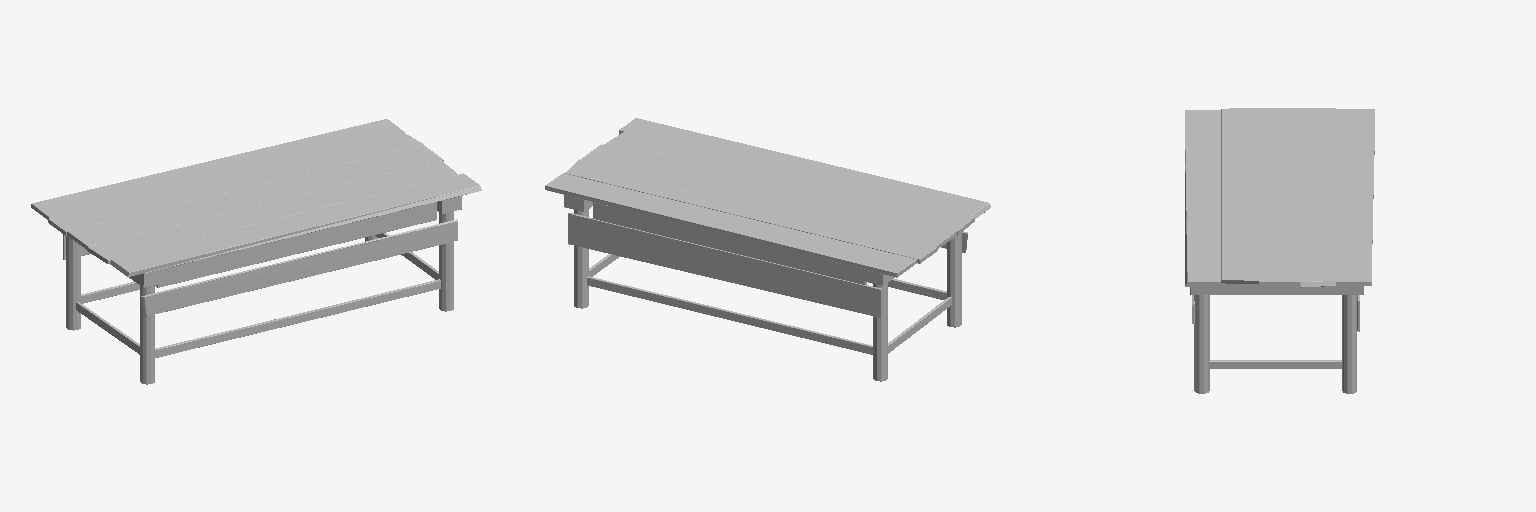
File: table3.obj
The picture shows the model from 3 angles: view 1: azimuth 30°, elevation 25°; view 2: azimuth 150°, elevation 25°; view 3: azimuth 270°, elevation 25°; orthographic projection.
Visible parts, largest first — view 1: Cube.014; view 2: Cube.014; view 3: Cube.014.
Boxes of the visible parts, x1=… form: Cube.014: x1=31, y1=119, x2=481, y2=384; Cube.014: x1=545, y1=118, x2=990, y2=381; Cube.014: x1=1185, y1=108, x2=1374, y2=393.
Size of the model in its own units: 1.5 by 0.4863 by 0.6898.